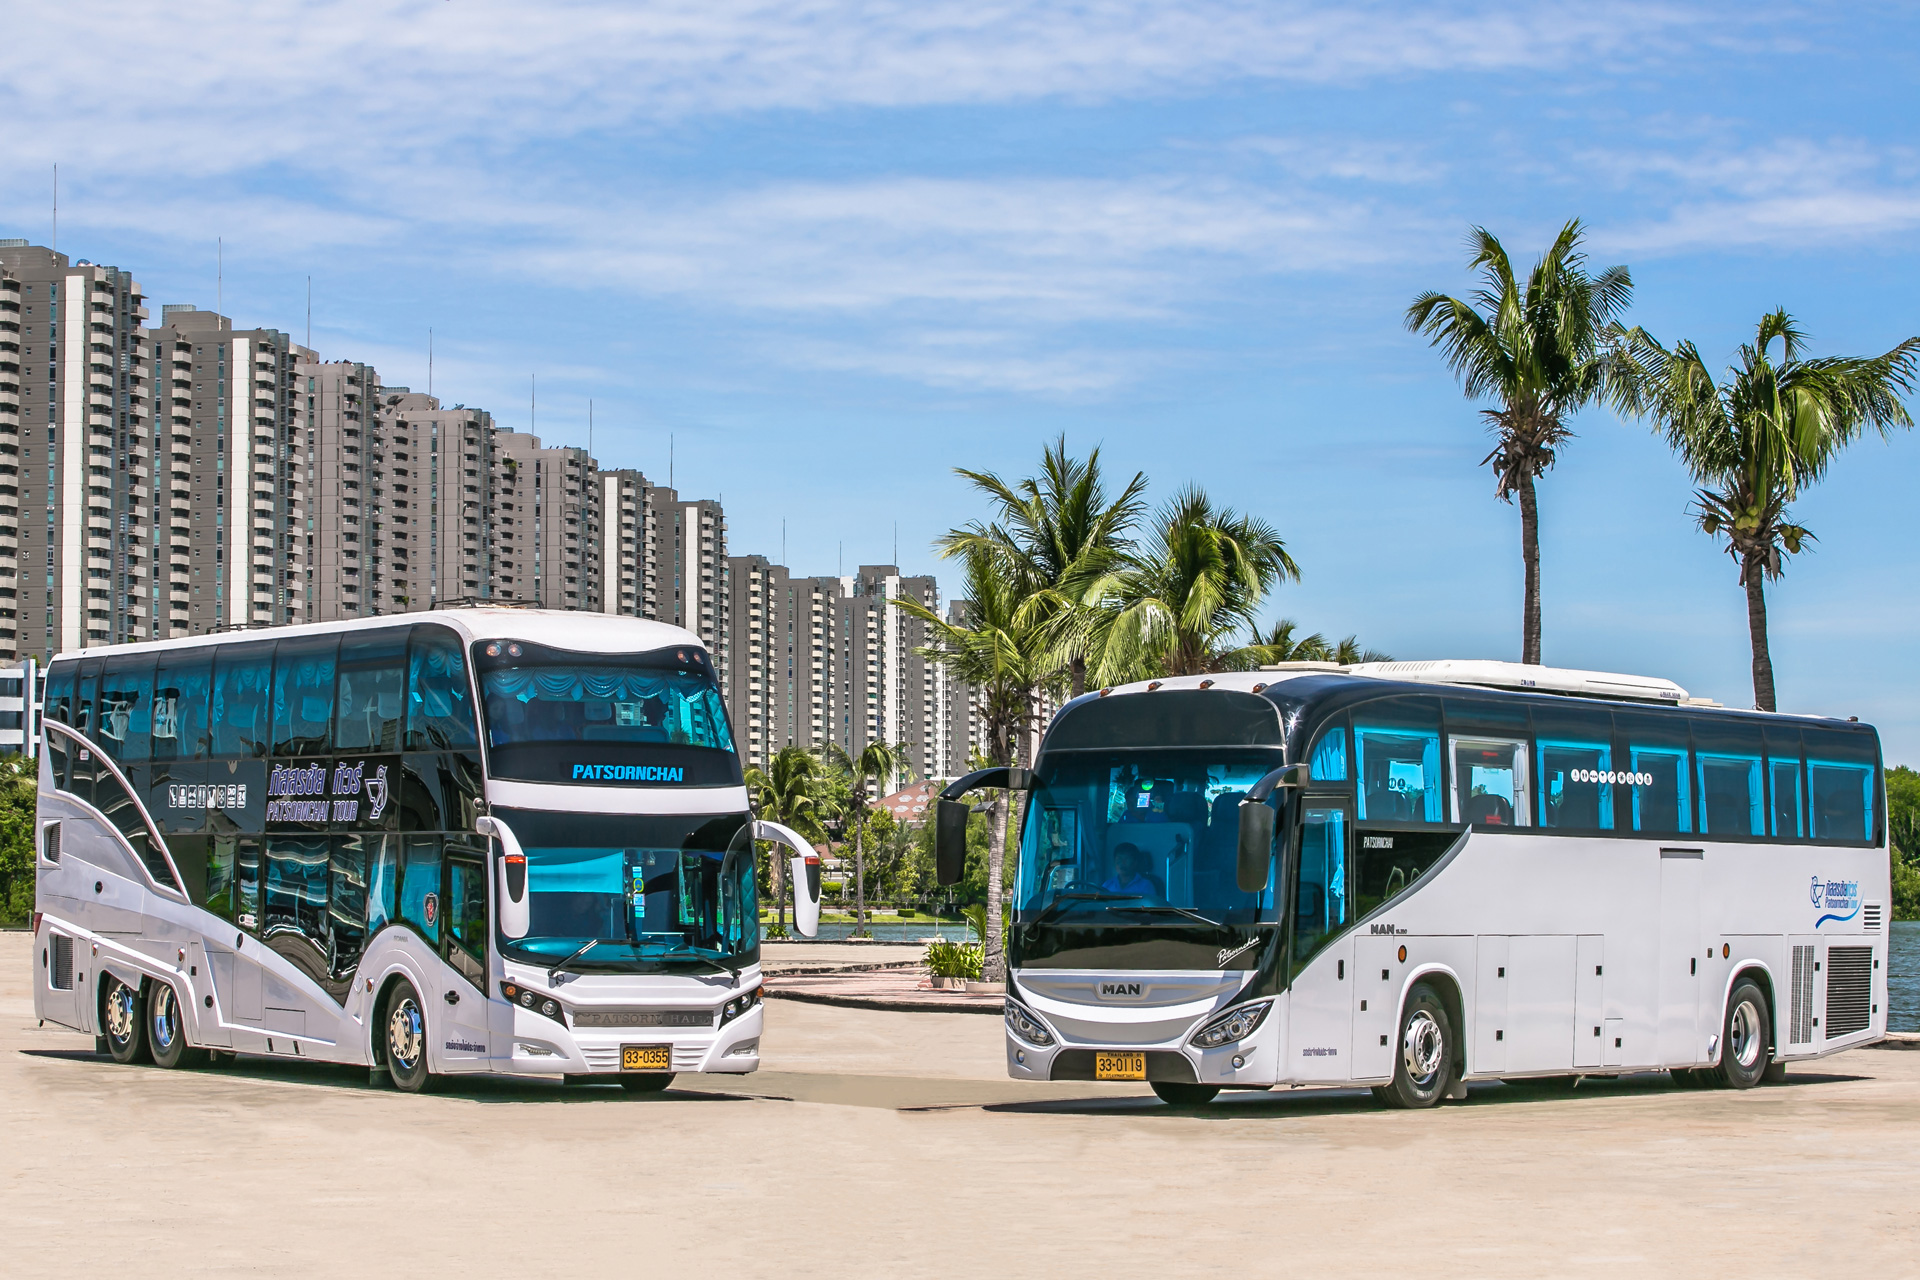bus: (1007, 659, 1890, 1106), (29, 606, 766, 1091)
